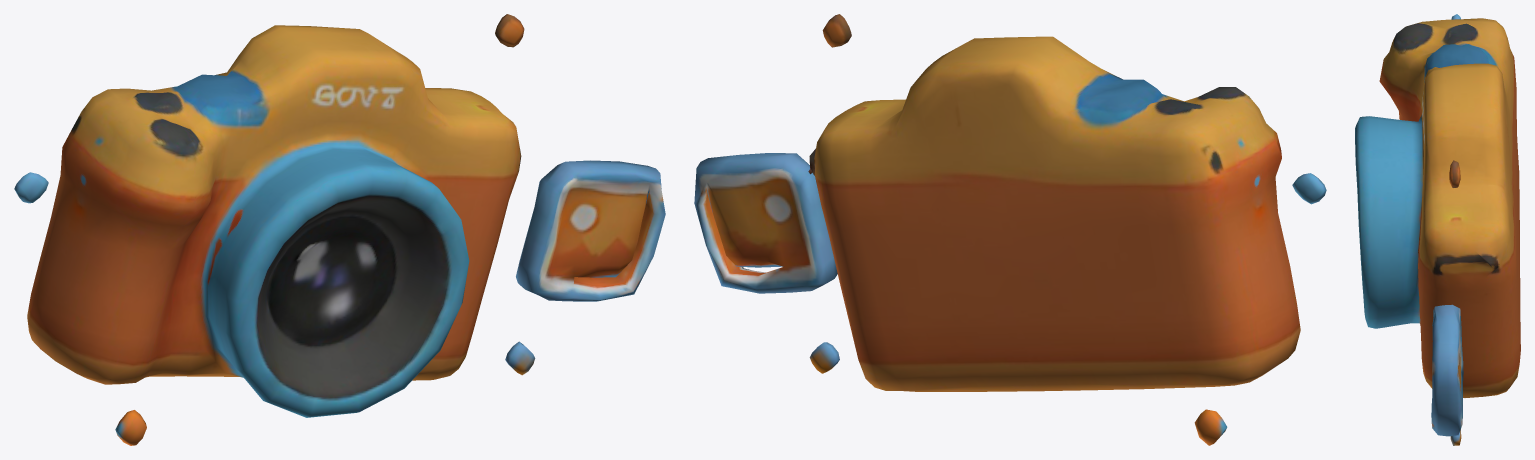
Rendered from camera.glb.
The picture shows the model from 3 angles, left to right: view 1: azimuth 30°, elevation 25°; view 2: azimuth 150°, elevation 25°; view 3: azimuth 270°, elevation 25°; orthographic projection. The views are drawn at different scales.
Parts seen in each view (by area): view 1: tripo_node_5d428925.001; view 2: tripo_node_5d428925.001; view 3: tripo_node_5d428925.001.
Boxes of the visible parts, <box> form: tripo_node_5d428925.001: <box>14,14,665,445</box>; tripo_node_5d428925.001: <box>694,14,1326,445</box>; tripo_node_5d428925.001: <box>1355,14,1520,445</box>.
Bounding box in the file's own units: 36.08 × 20.86 × 10.59.
Materials: 1 (1 with a texture image).
